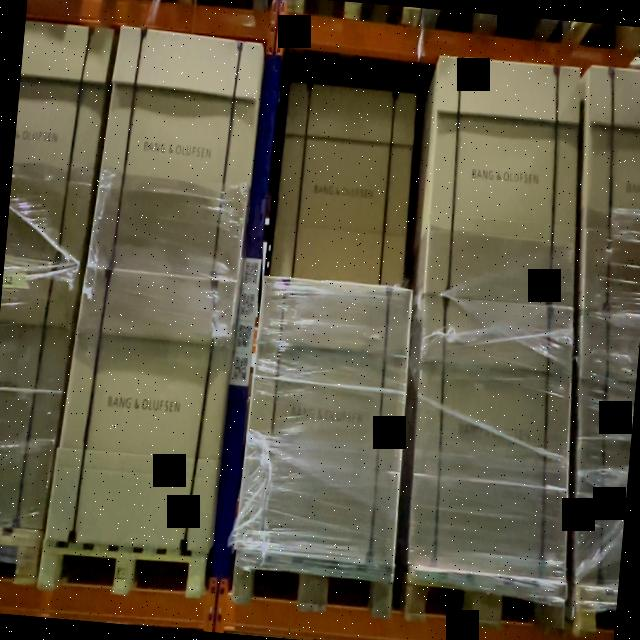box: (62, 274, 232, 556), (239, 280, 413, 554), (403, 301, 575, 574), (98, 29, 259, 284), (422, 58, 581, 304), (276, 78, 418, 286)
